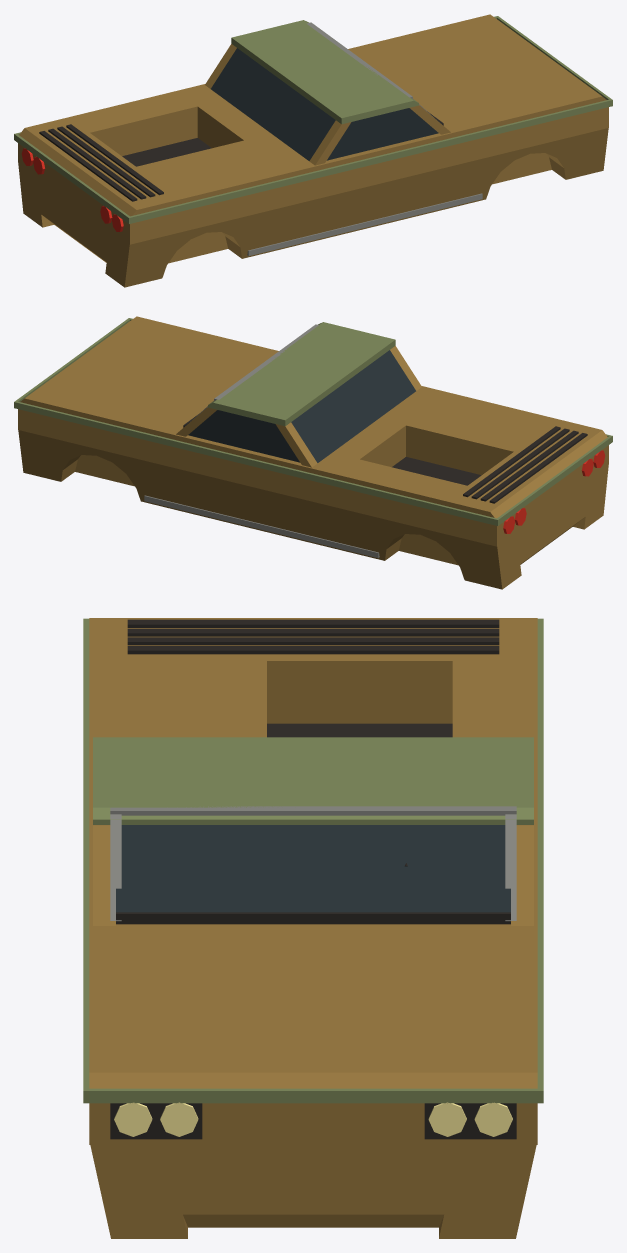
The model's file is base_convertible.glb.
The picture shows the model from 3 angles, top to bottom: view 1: azimuth 30°, elevation 25°; view 2: azimuth 150°, elevation 25°; view 3: azimuth 270°, elevation 25°; orthographic projection. The views are drawn at different scales.
Parts seen in each view (by area): view 1: base_convertible; view 2: base_convertible; view 3: base_convertible.
Boxes of the visible parts, <box> form: base_convertible: <box>14,14,612,287</box>; base_convertible: <box>14,316,612,589</box>; base_convertible: <box>83,618,543,1238</box>.
Size of the model in its own units: 5.83 by 1.39 by 2.4.
